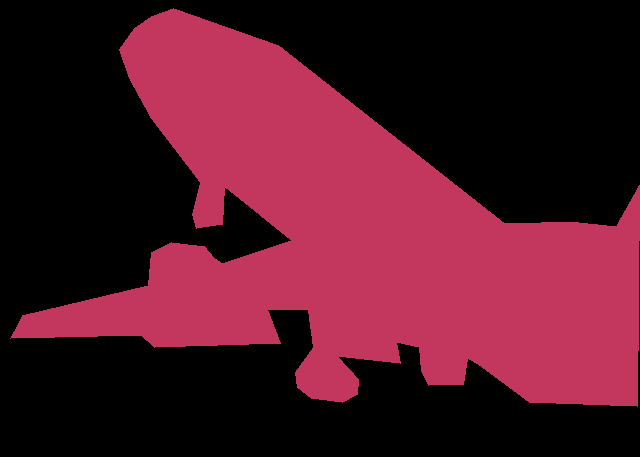Airplane: (10, 8, 640, 406)
